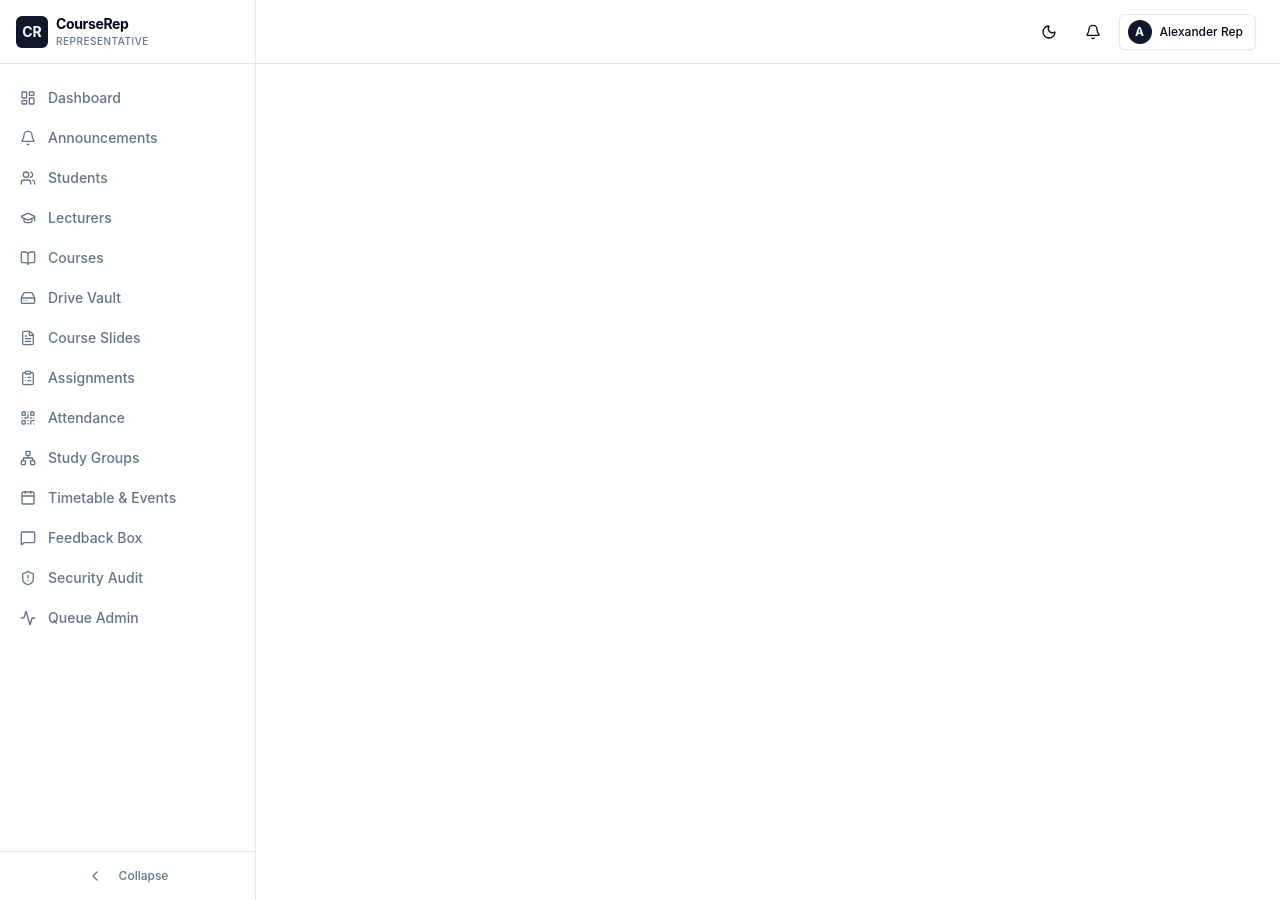
Test: AppLayout & Sidebar › opens Change Password dialog from Navbar user menu
Press the mouse on the button with aria-label "Open user menu" at (1187, 32), box [1119, 14, 1256, 50]
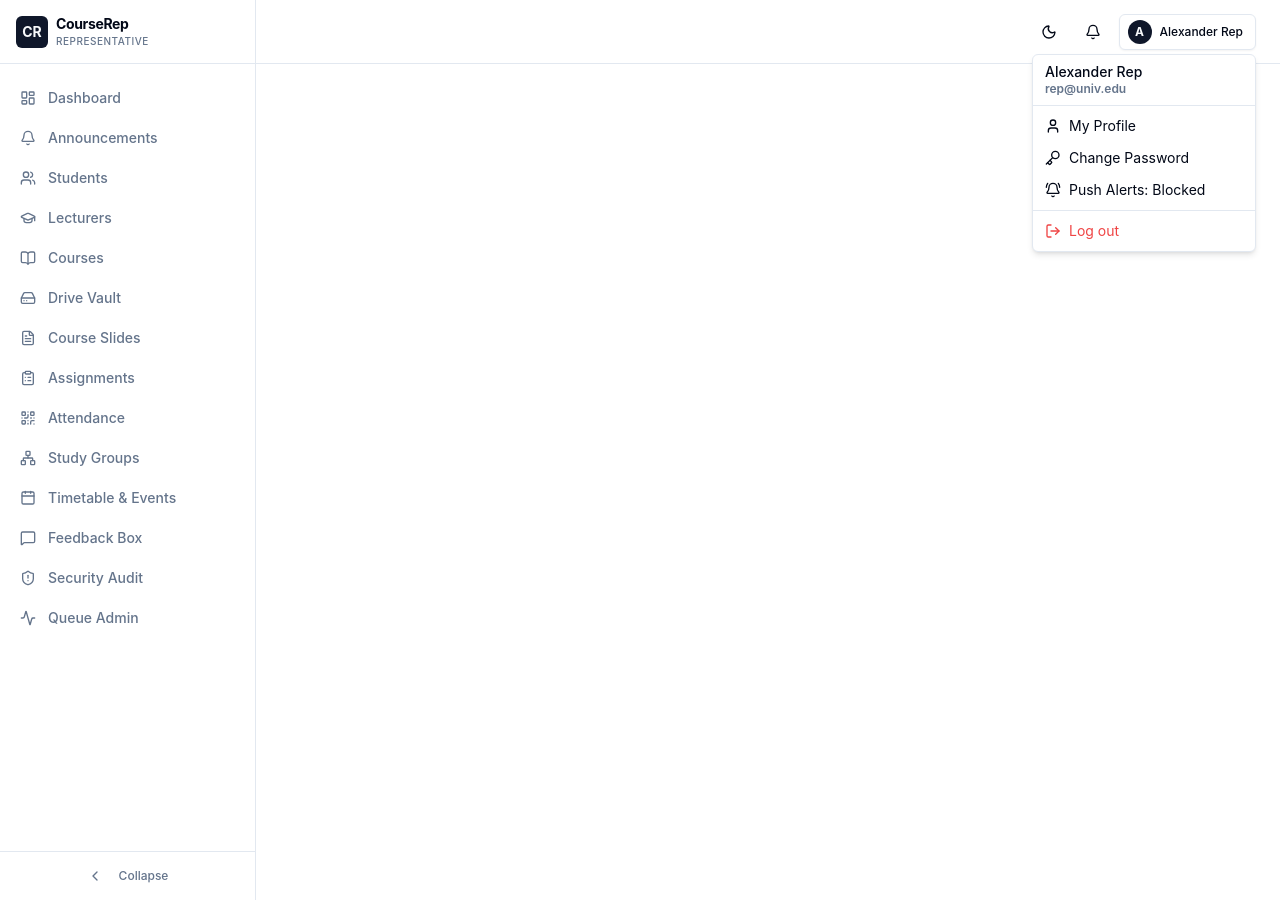
Expected: the text "Change Password" is shown, [1069, 148, 1189, 168]
Click the menu item "Change Password" at (1117, 158), box [1045, 149, 1189, 166]
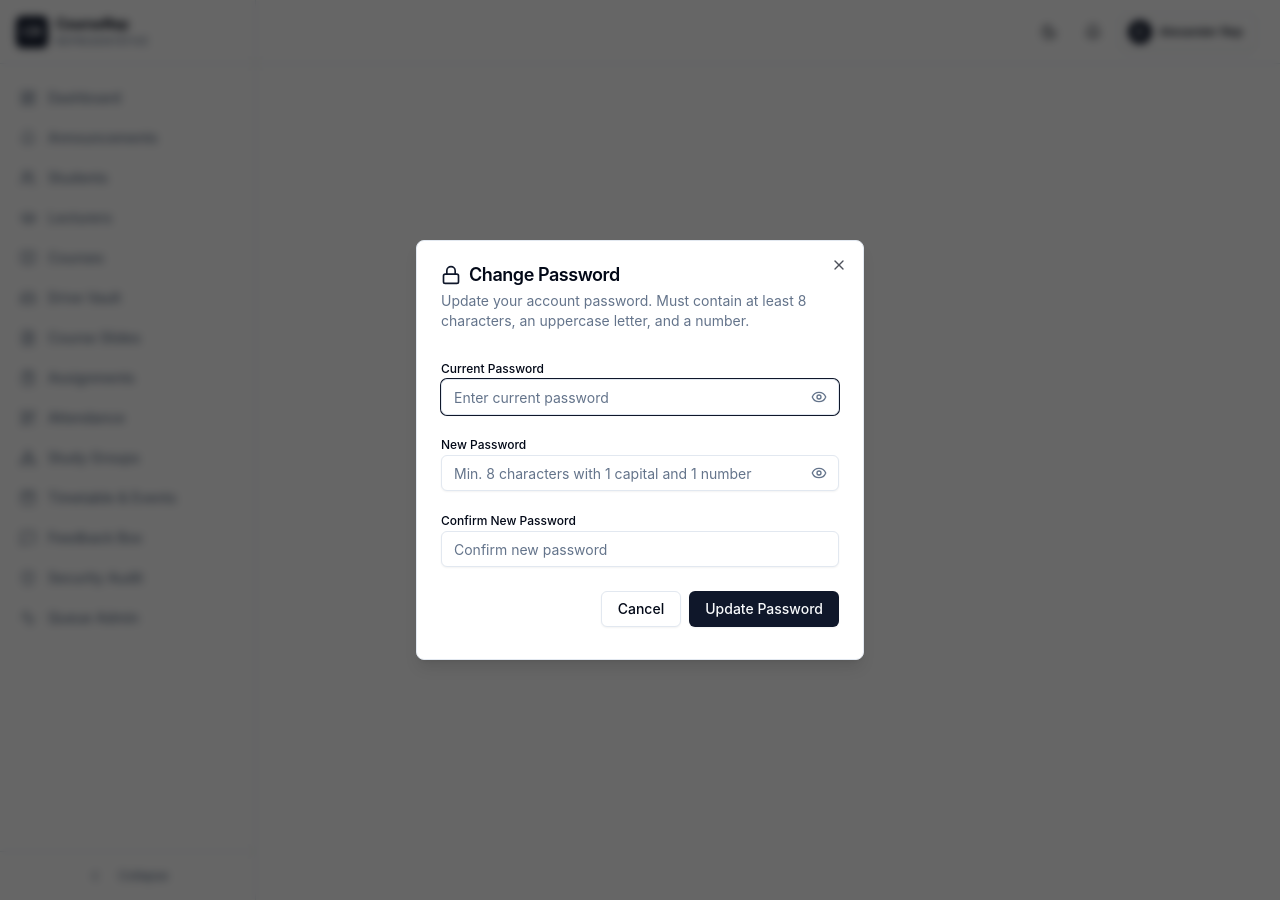
Expected: the dialog is shown, [416, 240, 864, 660]
Expected: the button "Update Password" is shown, [689, 591, 839, 627]
